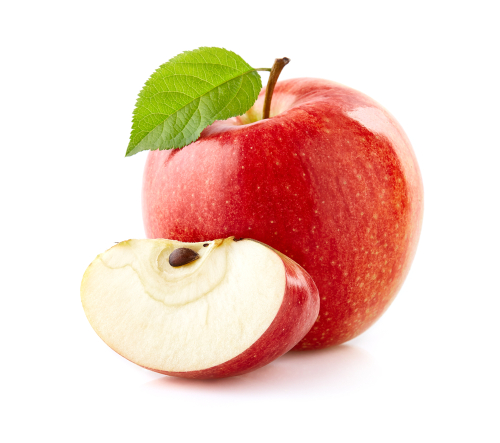Apple: (123, 59, 433, 363), (53, 221, 329, 359)
